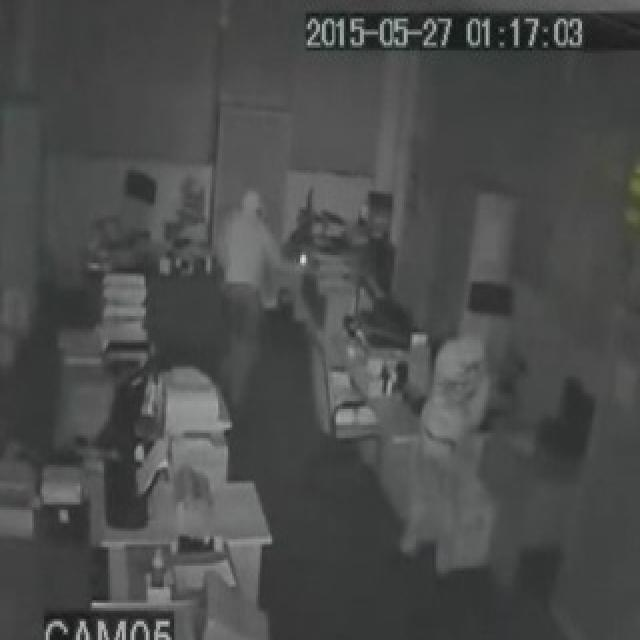thief: (213, 160, 278, 282), (426, 322, 508, 418)
